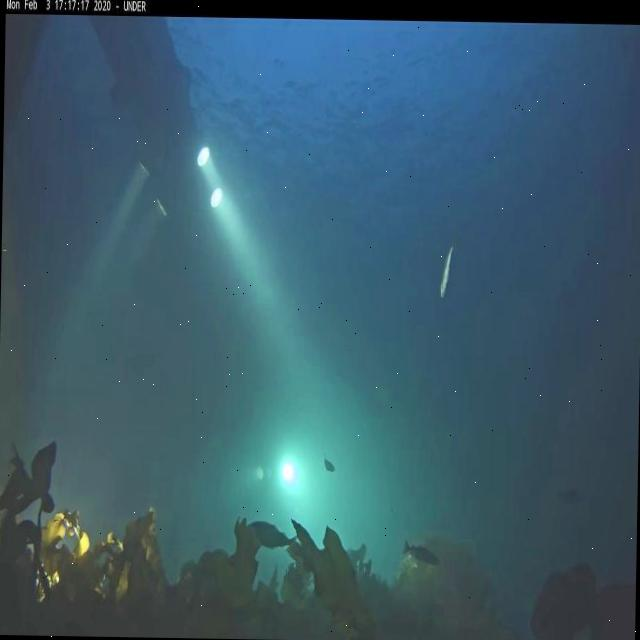fish: (402, 538, 440, 572), (441, 246, 454, 301), (324, 457, 336, 471)
